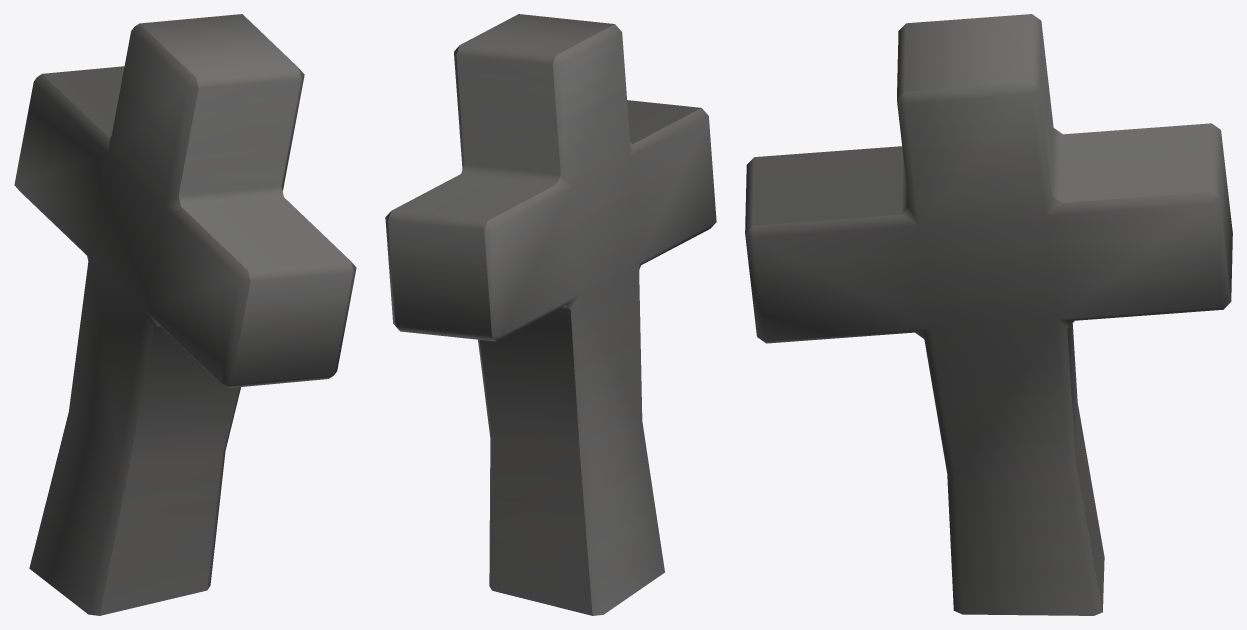
File: Cross_1_2.glb
3 renders of one model, left to right at view 1: azimuth 30°, elevation 25°; view 2: azimuth 150°, elevation 25°; view 3: azimuth 270°, elevation 25°, orthographic. The views are drawn at different scales.
Parts seen in each view (by area): view 1: Cross_1_2; view 2: Cross_1_2; view 3: Cross_1_2.
Boxes of the visible parts, bbox=[...] form: Cross_1_2: bbox=[14, 14, 356, 615]; Cross_1_2: bbox=[385, 14, 716, 615]; Cross_1_2: bbox=[745, 14, 1232, 615].
Size of the model in its own units: 0.3576 by 0.9797 by 0.7459.
Materials: 1 (1 with a texture image).
